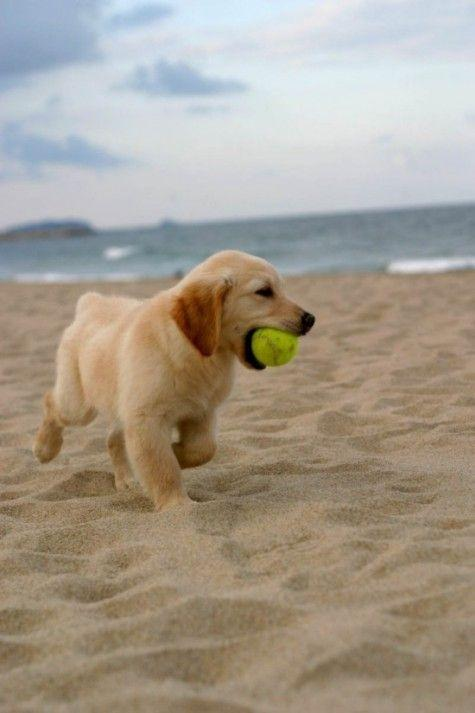puppy-dog: (28, 247, 318, 516)
